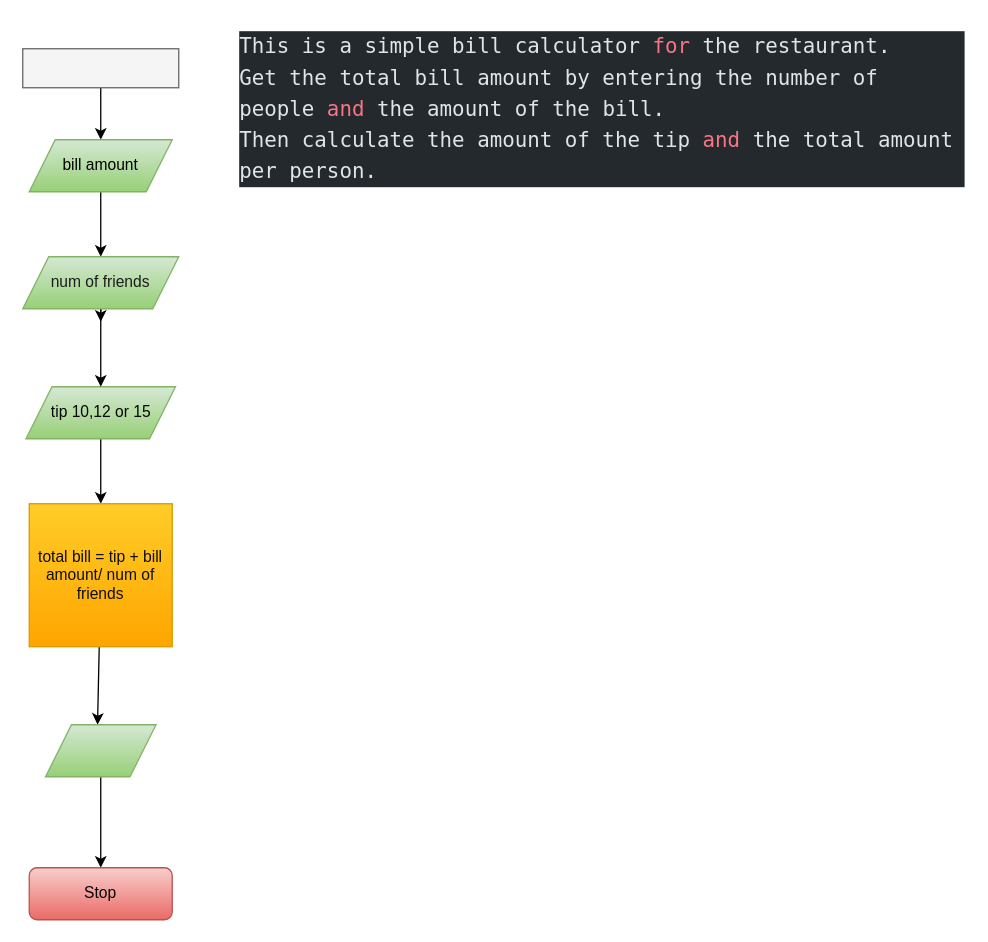
Image size: 988x942. Some labels were removed from this diagram. Here are the shapes that lost their labels. From the top down, the box of each, then its label:
(21, 47, 179, 88): Start
(44, 723, 156, 777): Output
